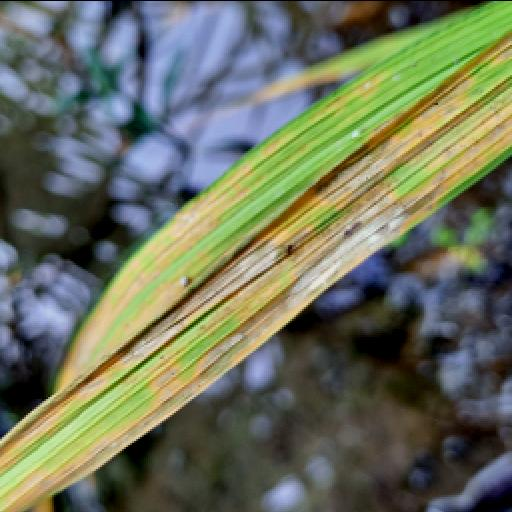Sheath Blight: (0, 46, 512, 512)
